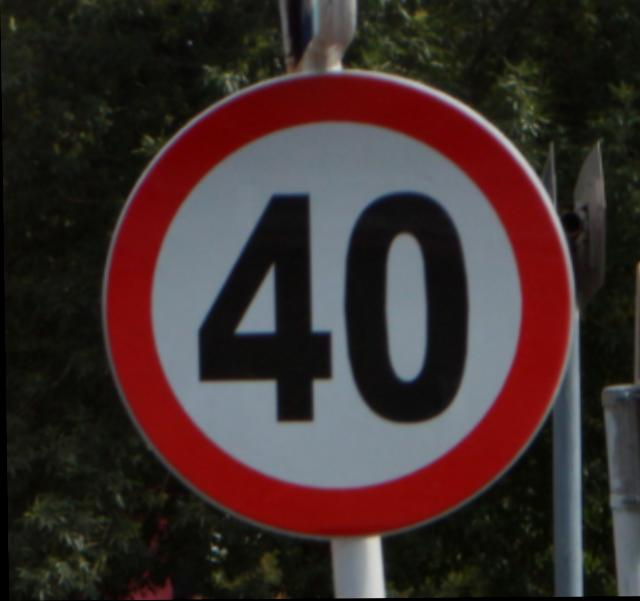limit40: (89, 64, 588, 550)
